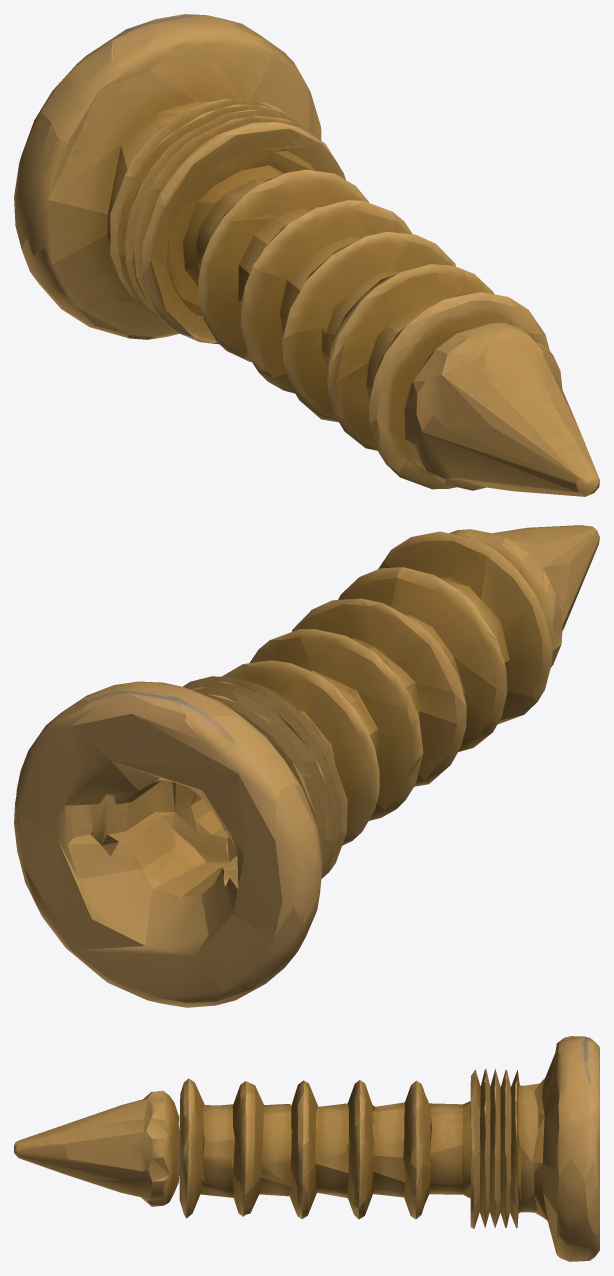
3 renders of one model, top to bottom at view 1: azimuth 30°, elevation 25°; view 2: azimuth 150°, elevation 25°; view 3: azimuth 270°, elevation 25°, orthographic. The views are drawn at different scales.
Bounding box in the file's own units: 0.3843 × 0.3853 × 1.
1 material, 1 textured.
